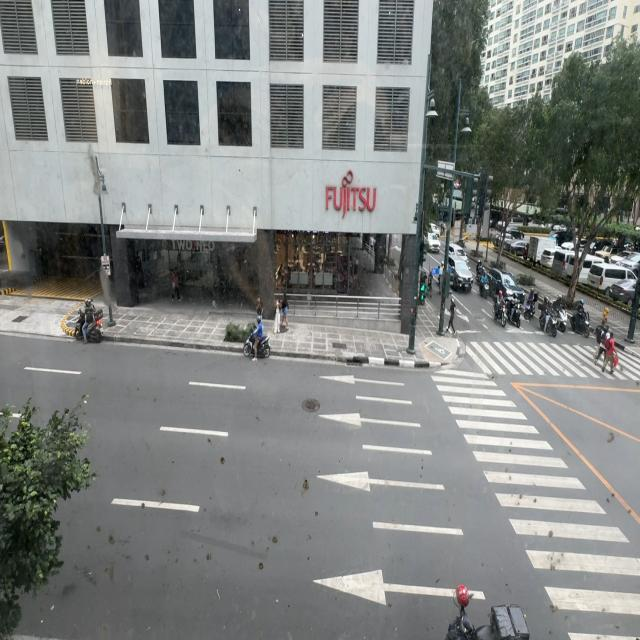crossing: (594, 321, 609, 368), (602, 332, 618, 376)
